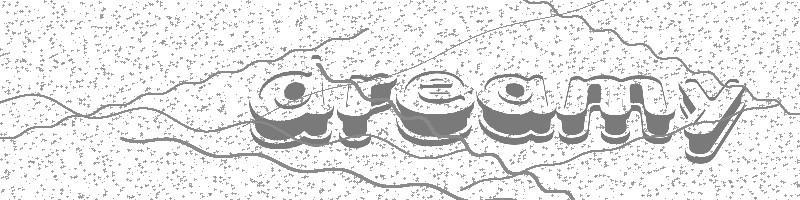a: (478, 71, 555, 145)
d: (247, 51, 337, 149)
e: (399, 70, 476, 149)
m: (557, 72, 678, 148)
r: (338, 69, 398, 147)
y: (679, 75, 745, 167)
